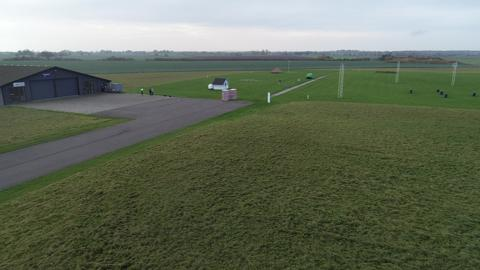RockwoolPallet: (229, 89, 237, 100)
